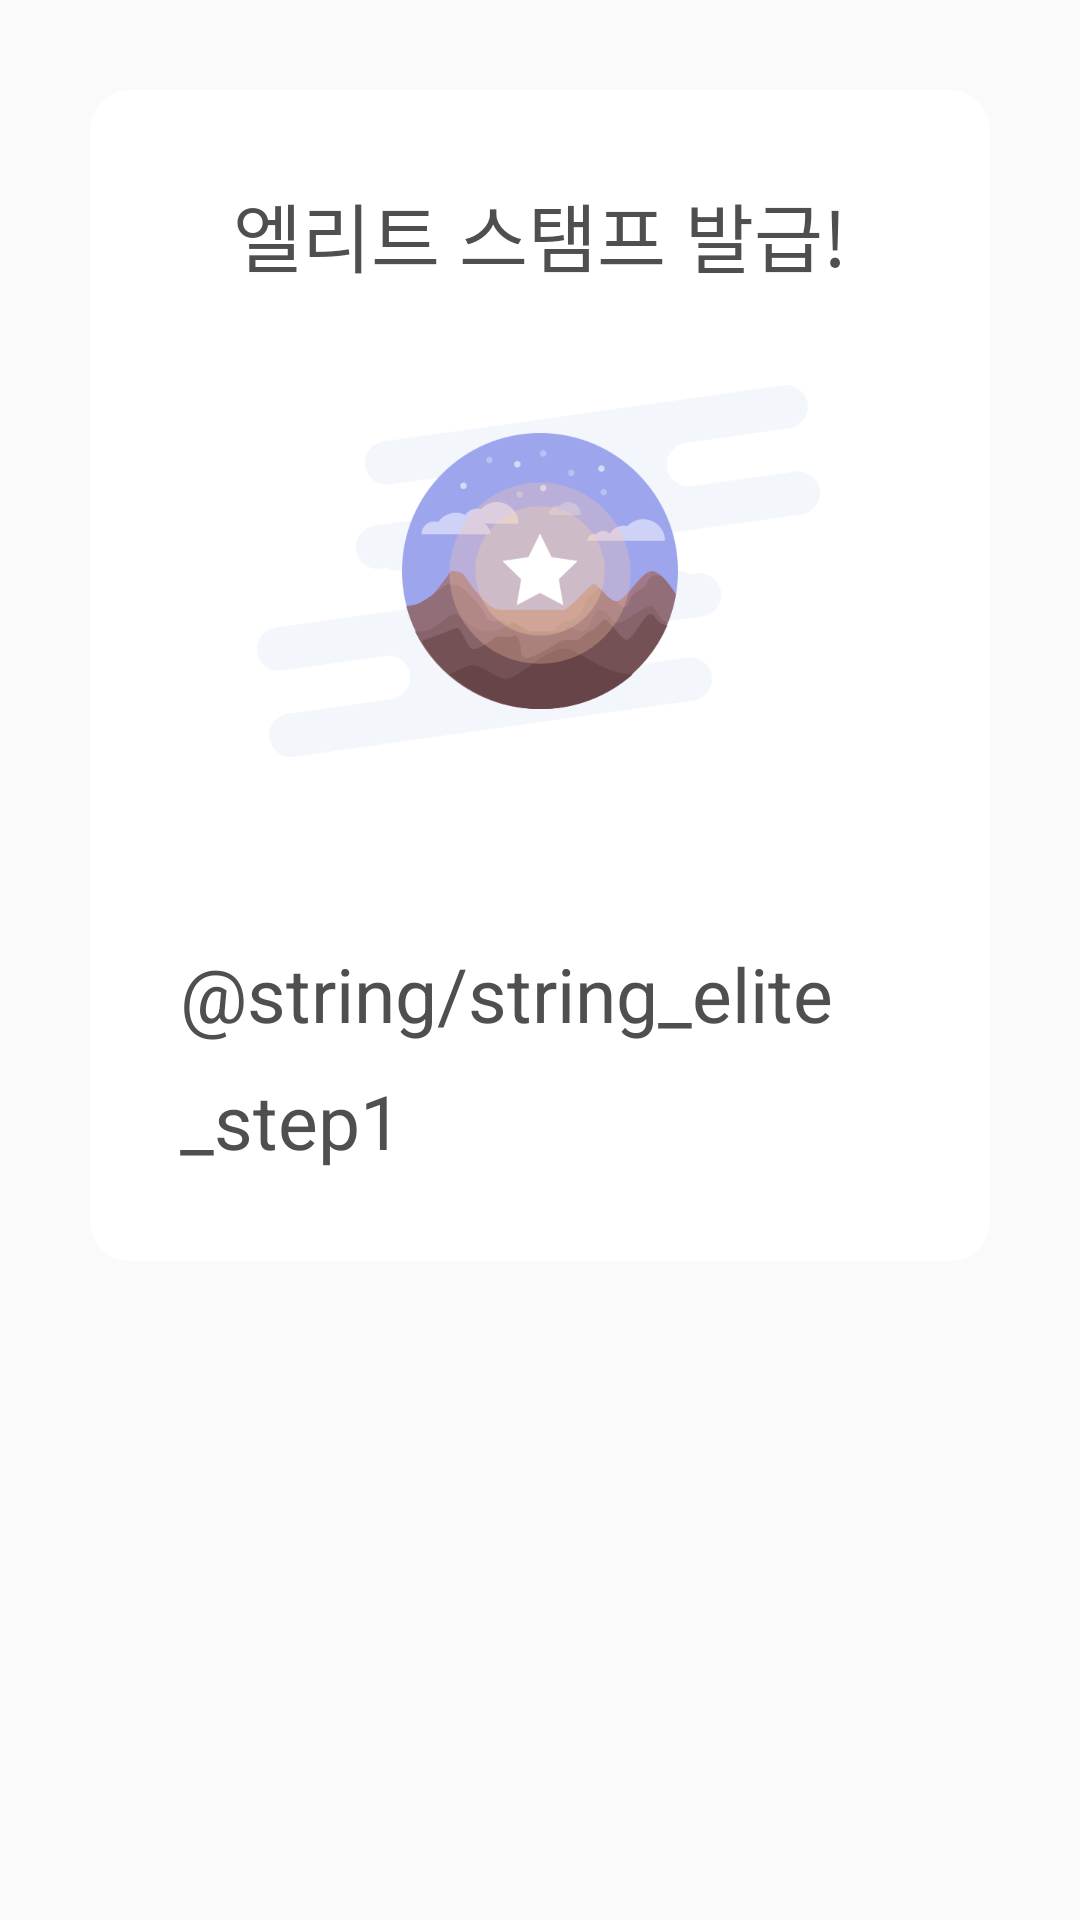

Named icons in this screenshot (1080*1920) and their bounding boxes, (x1, y1, x2, y2):
badge: (402, 433, 678, 709)
